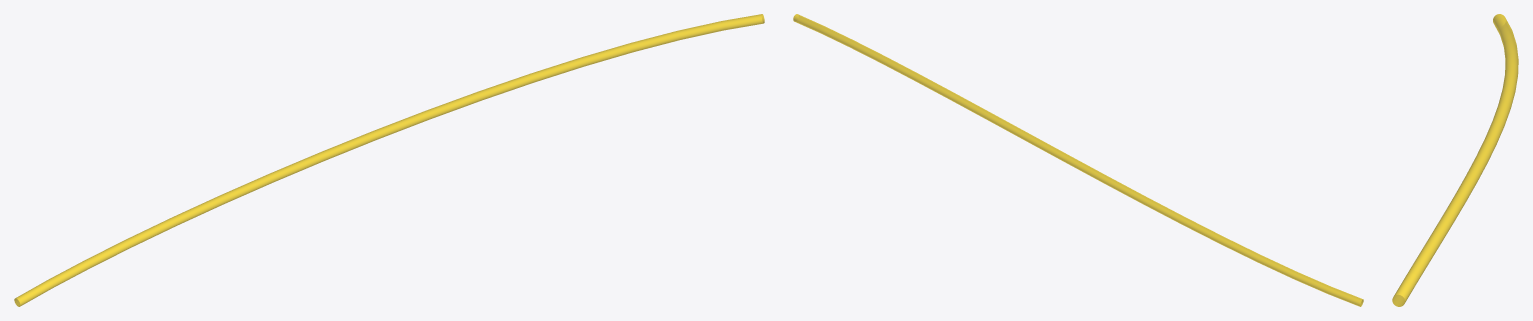
The model's file is Event_75125125_track_92.fbx.
3 views of the same model, side by side, from view 1: azimuth 30°, elevation 25°; view 2: azimuth 150°, elevation 25°; view 3: azimuth 270°, elevation 25° (orthographic). The views are drawn at different scales.
Visible parts, largest first — view 1: Model; view 2: Model; view 3: Model.
Part boxes in pixels (x1,y1,x2,y2): Model: (14,14,764,306); Model: (793,14,1363,306); Model: (1392,14,1518,306).
Bounding box in the file's own units: 3.37 × 0.6656 × 0.3837.
